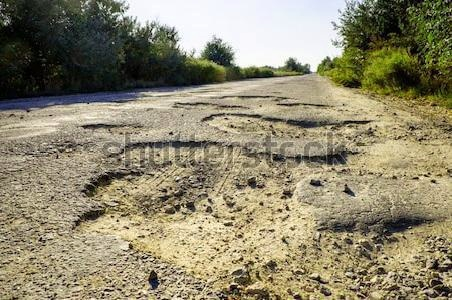pothole: (67, 137, 312, 298), (201, 109, 381, 142), (212, 93, 291, 113), (79, 120, 145, 134), (170, 99, 247, 111)
